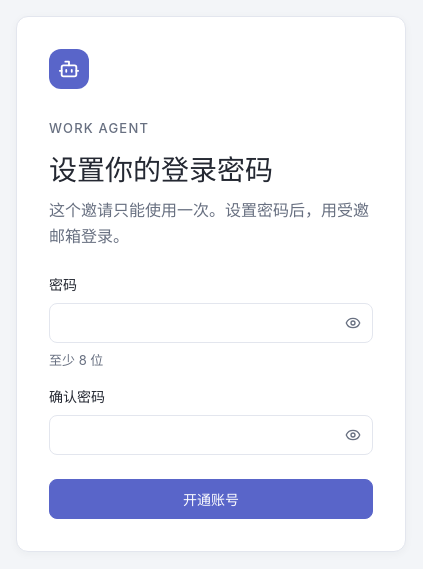
Test: InvitePage › accepts the invite and confirms the activated email
The image size is (423, 569).
Type "password123" into the password field labelled "密码" at x=211, y=322, box x1=49 y1=302 x2=373 y2=342
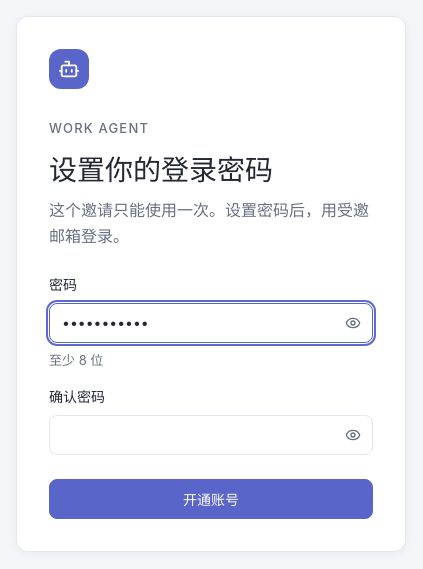
Type "password123" into the password field labelled "确认密码" at x=211, y=435, box x1=49 y1=415 x2=373 y2=455
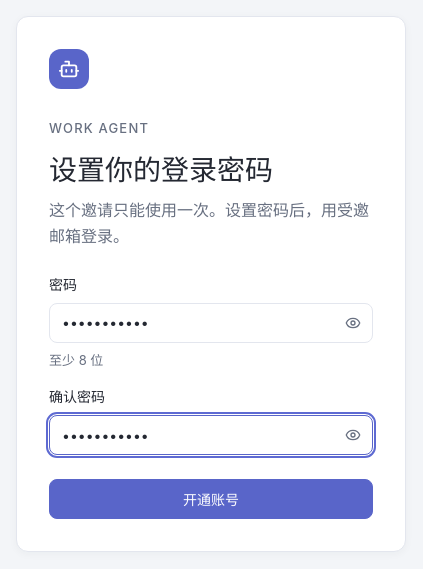
Click the button "开通账号" at x=211, y=499, box x1=49 y1=479 x2=373 y2=519
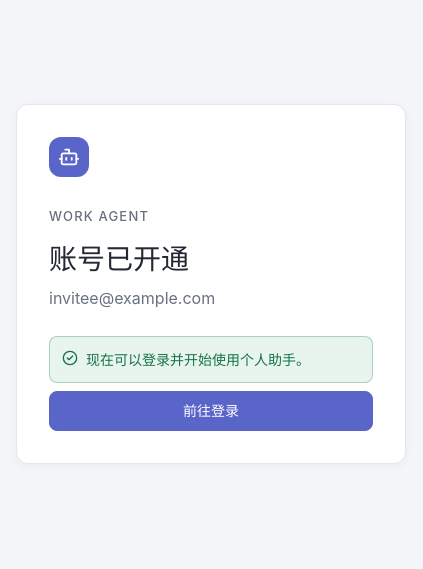
Expected: the heading "账号已开通" is shown, x1=49 y1=242 x2=189 y2=276
Expected: the text "invitee@example.com" is shown, x1=49 y1=288 x2=215 y2=308
